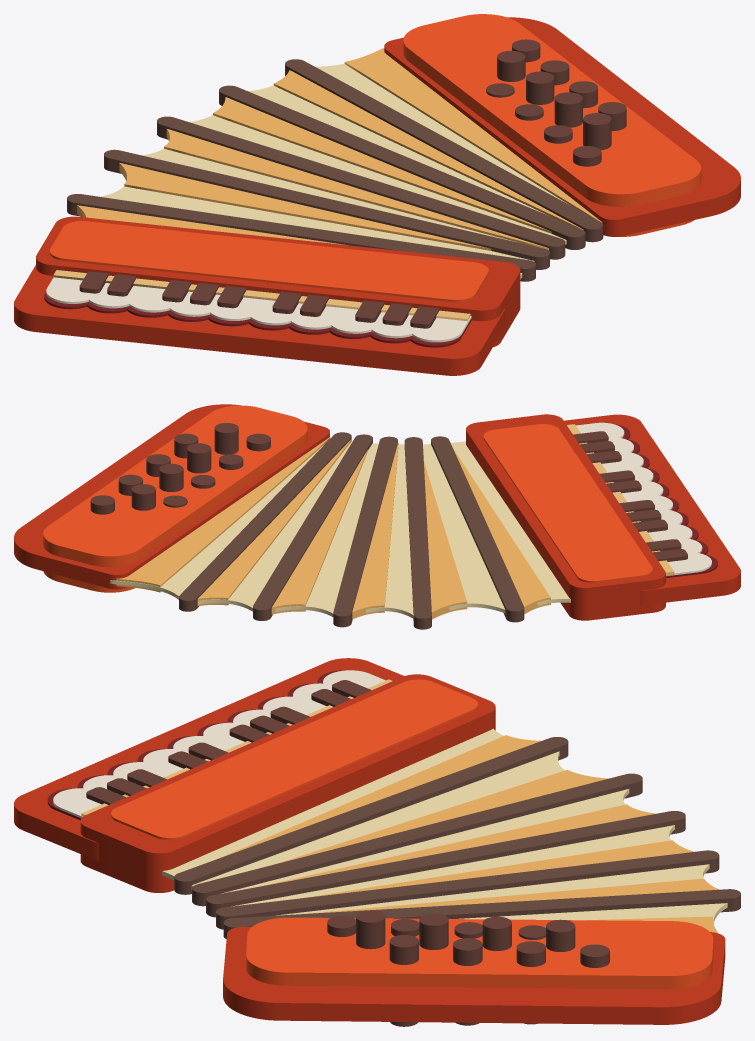
The model's file is emoji_u1fa97.glb.
The picture shows the model from 3 angles, top to bottom: view 1: azimuth 30°, elevation 25°; view 2: azimuth 150°, elevation 25°; view 3: azimuth 270°, elevation 25°; orthographic projection. The views are drawn at different scales.
Parts seen in each view (by area): view 1: emoji_u1fa97; view 2: emoji_u1fa97; view 3: emoji_u1fa97.
Boxes of the visible parts, bbox=[...] form: emoji_u1fa97: bbox=[14, 14, 740, 375]; emoji_u1fa97: bbox=[14, 404, 740, 629]; emoji_u1fa97: bbox=[14, 658, 740, 1026].
Size of the model in its own units: 0.0339 by 0.0044 by 0.0298.
